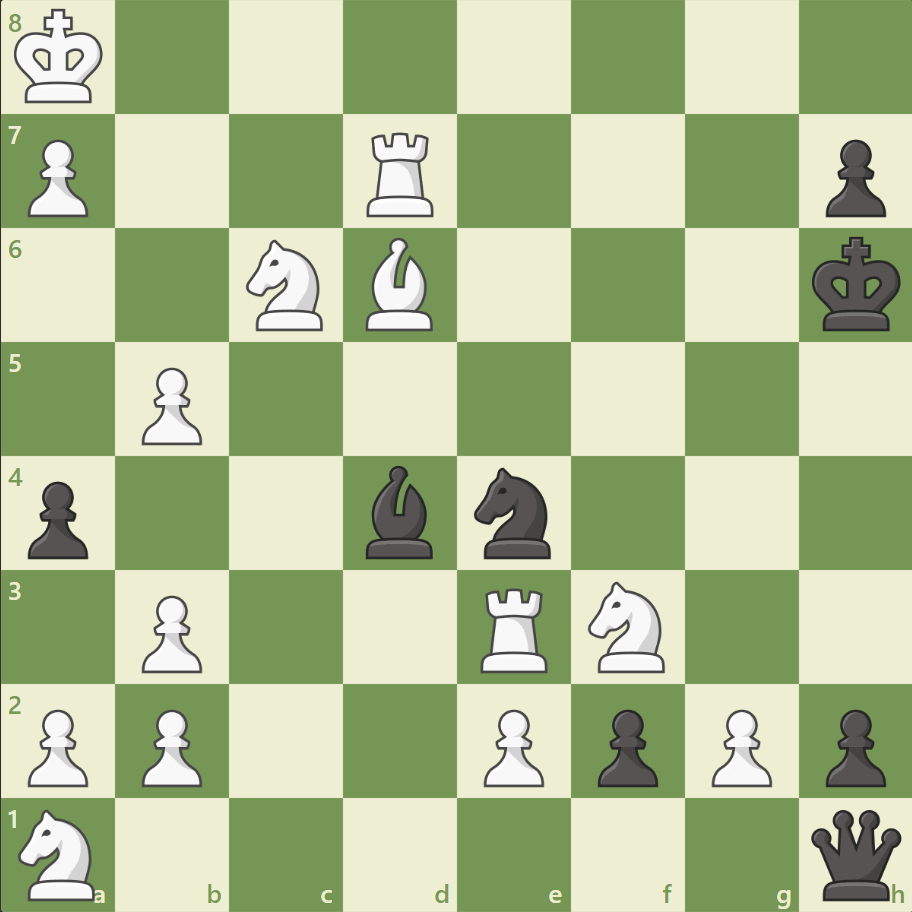B: (358, 233, 442, 336)
K: (11, 4, 111, 112)
N: (238, 234, 335, 337), (579, 575, 676, 677), (11, 802, 108, 904)
P: (20, 132, 95, 223), (133, 359, 208, 450), (133, 586, 208, 677), (20, 700, 95, 791), (133, 700, 208, 791), (474, 700, 549, 791), (701, 700, 776, 791)
R: (473, 579, 556, 676), (360, 125, 442, 222)
b: (358, 460, 442, 563)
k: (806, 231, 906, 339)
n: (465, 461, 562, 564)
p: (20, 473, 95, 564), (815, 132, 889, 223), (588, 700, 662, 791), (815, 700, 889, 791)
q: (805, 804, 904, 903)
